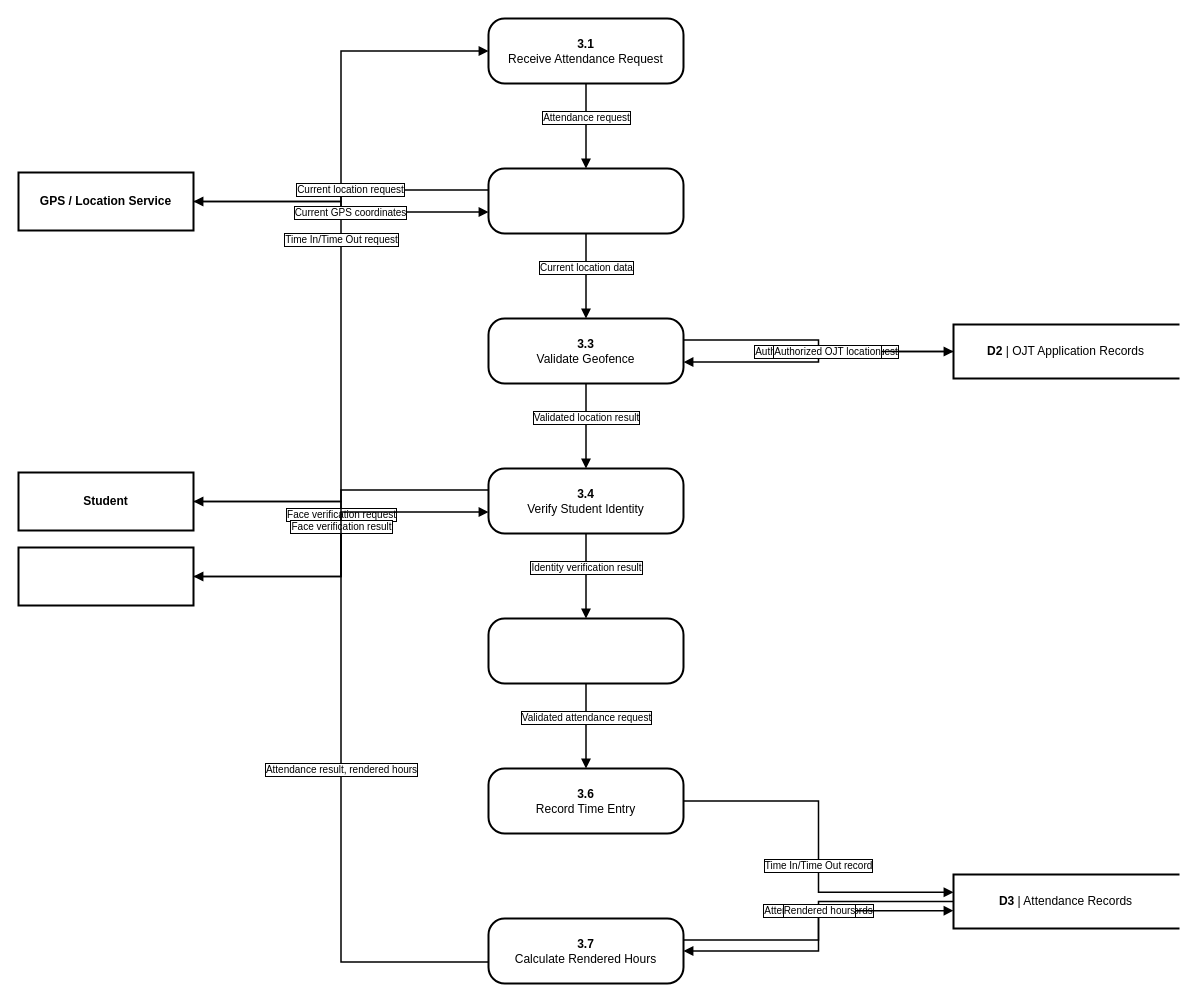
Image size: 1196x1001. Some labels were removed from this diagram. Each missing label, with the centre of its shape:
"3.2 Capture Location" belongs at pixel 585 200.
"3.5 Validate Attendance" belongs at pixel 585 650.
"Facial Recognition Service" belongs at pixel 105 576.
